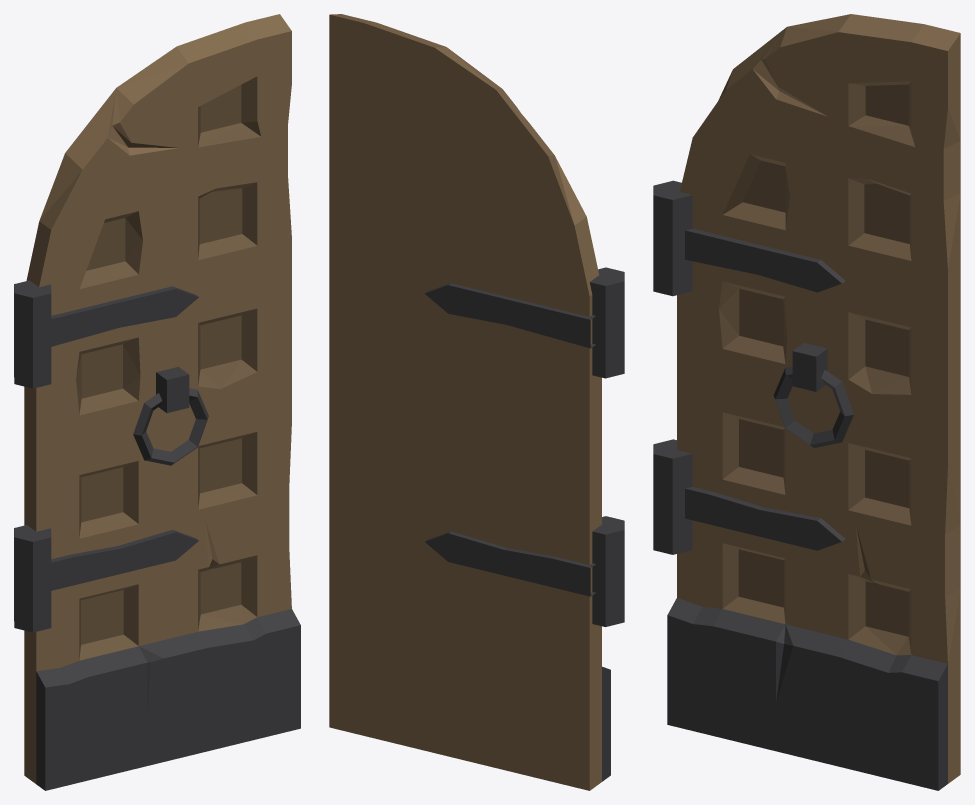
The model's file is SM_Bld_Castle_Door_L.gltf.
3 views of the same model, side by side, from view 1: azimuth 30°, elevation 25°; view 2: azimuth 150°, elevation 25°; view 3: azimuth 330°, elevation 25° (orthographic). The views are drawn at different scales.
Visible parts, largest first — view 1: SM_Bld_Castle_Door_L; view 2: SM_Bld_Castle_Door_L; view 3: SM_Bld_Castle_Door_L.
Boxes of the visible parts, x1=… form: SM_Bld_Castle_Door_L: x1=14, y1=14, x2=300, y2=790; SM_Bld_Castle_Door_L: x1=329, y1=14, x2=624, y2=790; SM_Bld_Castle_Door_L: x1=653, y1=14, x2=960, y2=790.
Size of the model in its own units: 1.07 by 2.58 by 0.1699.
1 material, 1 textured.
